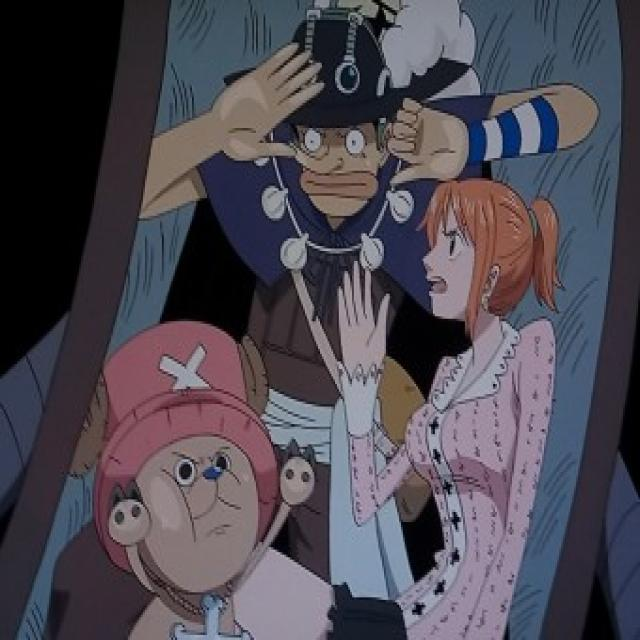Chyopa: (76, 321, 284, 640)
Nami: (418, 174, 562, 340)
Usopp: (268, 3, 409, 220)
